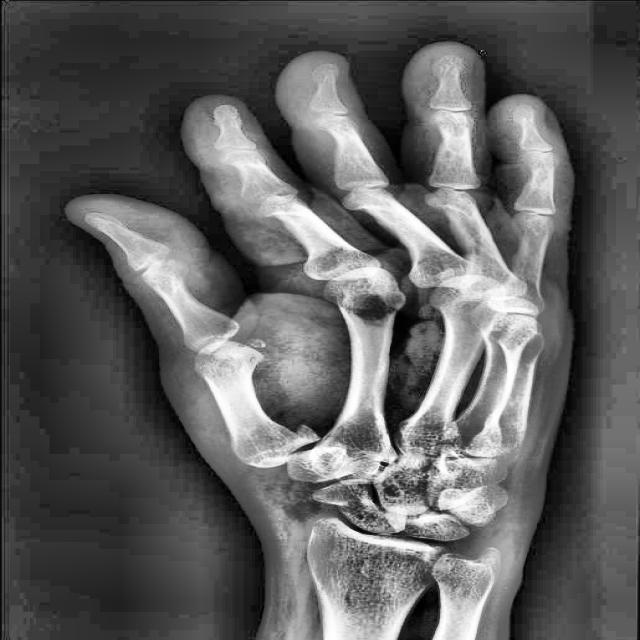fracture: (282, 418, 321, 458), (260, 208, 310, 224), (429, 204, 471, 219), (344, 205, 396, 216)
